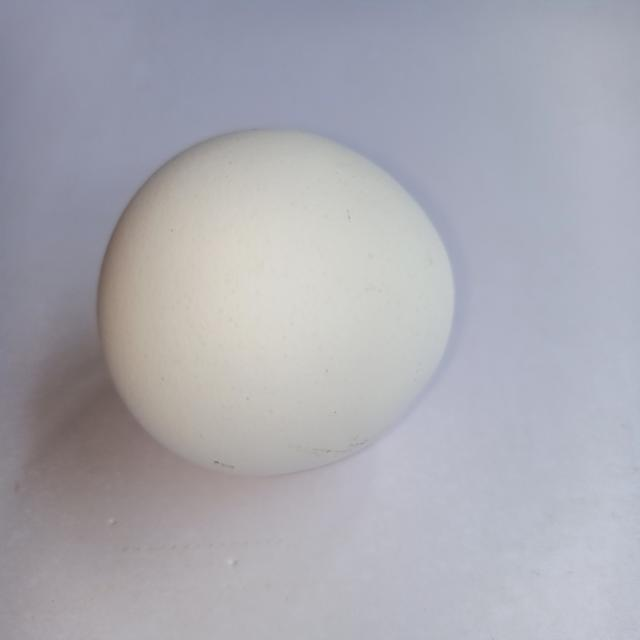Egg: (80, 114, 474, 501)
